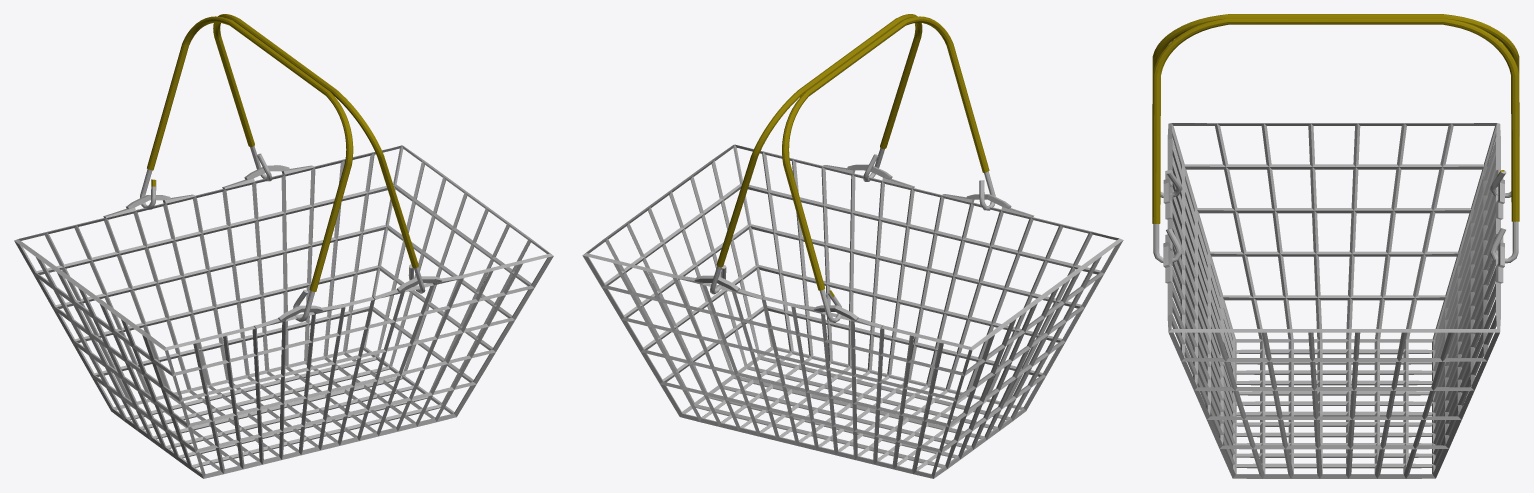
File: Mand_low.fbx
3 renders of one model, left to right at view 1: azimuth 30°, elevation 25°; view 2: azimuth 150°, elevation 25°; view 3: azimuth 270°, elevation 25°, orthographic. The views are drawn at different scales.
Parts seen in each view (by area): view 1: mand_low, handle_2_low, handle_1_low; view 2: mand_low, handle_2_low, handle_1_low; view 3: mand_low, handle_1_low, handle_2_low.
Boxes of the visible parts, box(x1,y1,x2,y2) form: mand_low: box(14, 145, 553, 478); handle_2_low: box(140, 16, 353, 322); handle_1_low: box(213, 14, 425, 293); mand_low: box(582, 144, 1123, 478); handle_2_low: box(782, 16, 995, 322); handle_1_low: box(710, 14, 922, 294); mand_low: box(1163, 123, 1504, 478); handle_1_low: box(1152, 18, 1519, 263); handle_2_low: box(1152, 14, 1519, 197).
Size of the model in its own units: 2.47 by 2.17 by 1.83.
